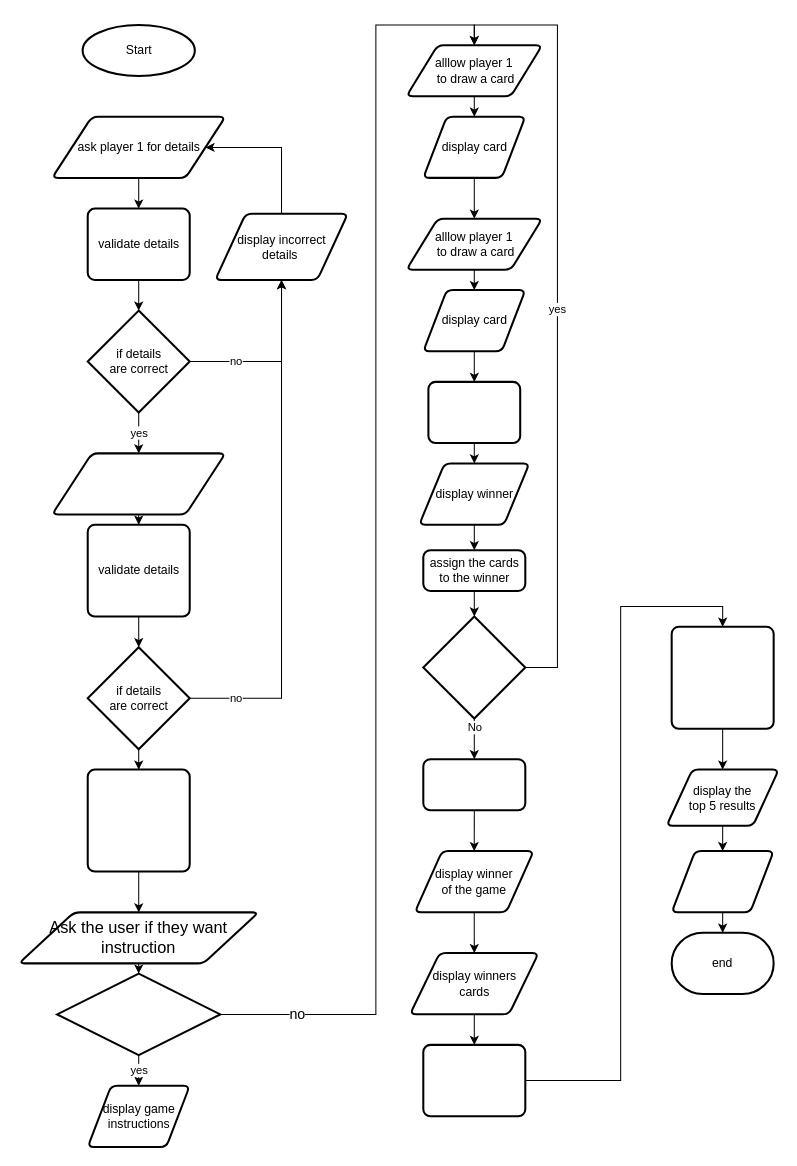
The diagram is 797 pixels wide and 1166 high, and some of its shapes have lost their labels. Here are the shapes that lost their labels. From the top down, the centre of each, then its label:
[474,412]: work out the winner of the round
[138,483]: ask player 2 for details
[474,667]: if cards are remaining
[722,677]: find the top 5 results from the external file
[474,784]: work out who won the most rounds (winner)
[138,820]: Create and randomise deck
[722,881]: display exit message
[138,1014]: If the user wants the instructions
[474,1080]: store the name and result of the winner in a external file
